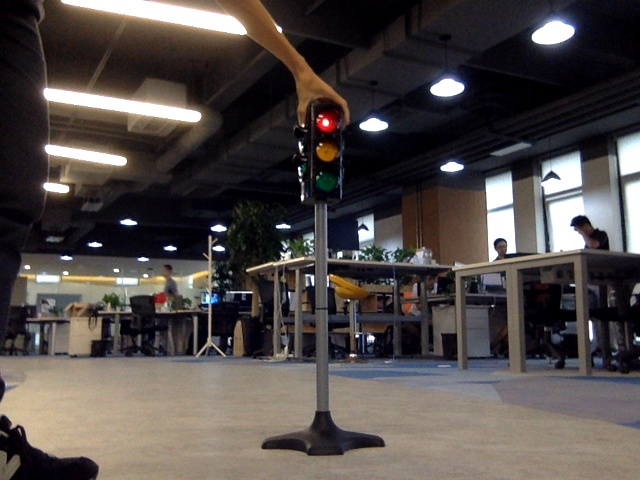red: (310, 108, 339, 192)
